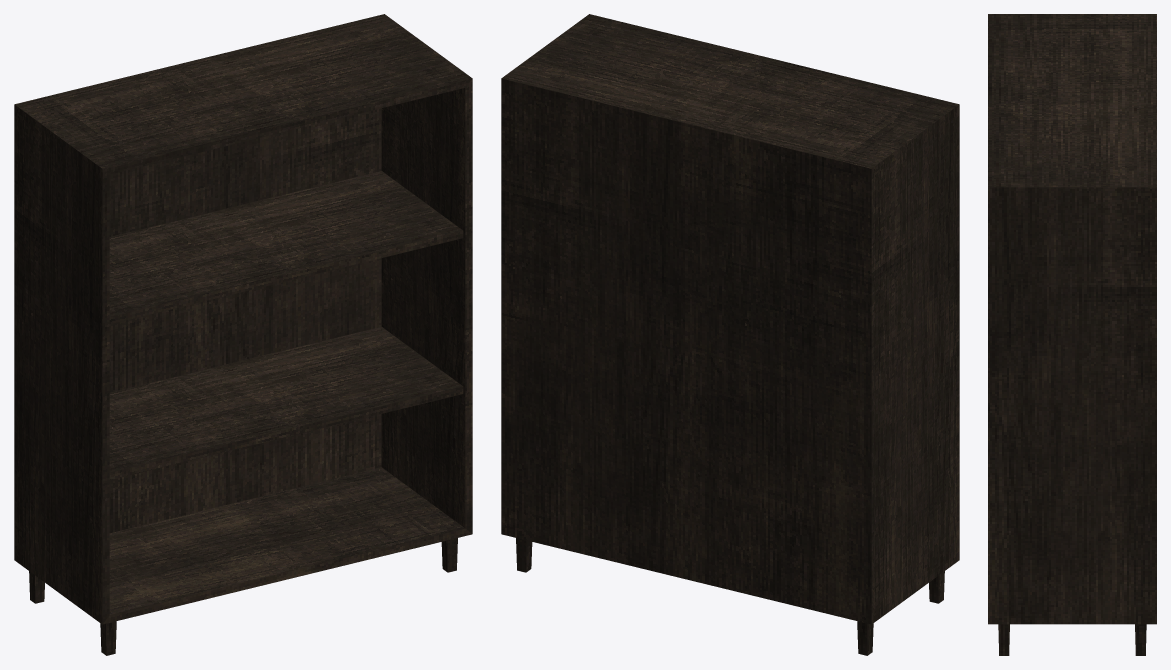
The model's file is shelf_mp_3_2.glb.
The picture shows the model from 3 angles, left to right: view 1: azimuth 30°, elevation 25°; view 2: azimuth 150°, elevation 25°; view 3: azimuth 270°, elevation 25°; orthographic projection. The views are drawn at different scales.
Parts seen in each view (by area): view 1: shelf_mp_3_2; view 2: shelf_mp_3_2; view 3: shelf_mp_3_2.
Boxes of the visible parts, x1=… form: shelf_mp_3_2: x1=14, y1=14, x2=472, y2=655; shelf_mp_3_2: x1=501, y1=14, x2=959, y2=655; shelf_mp_3_2: x1=988, y1=14, x2=1156, y2=655.
Size of the model in its own units: 1.02 by 1.3 by 0.42.
1 material, 1 textured.
